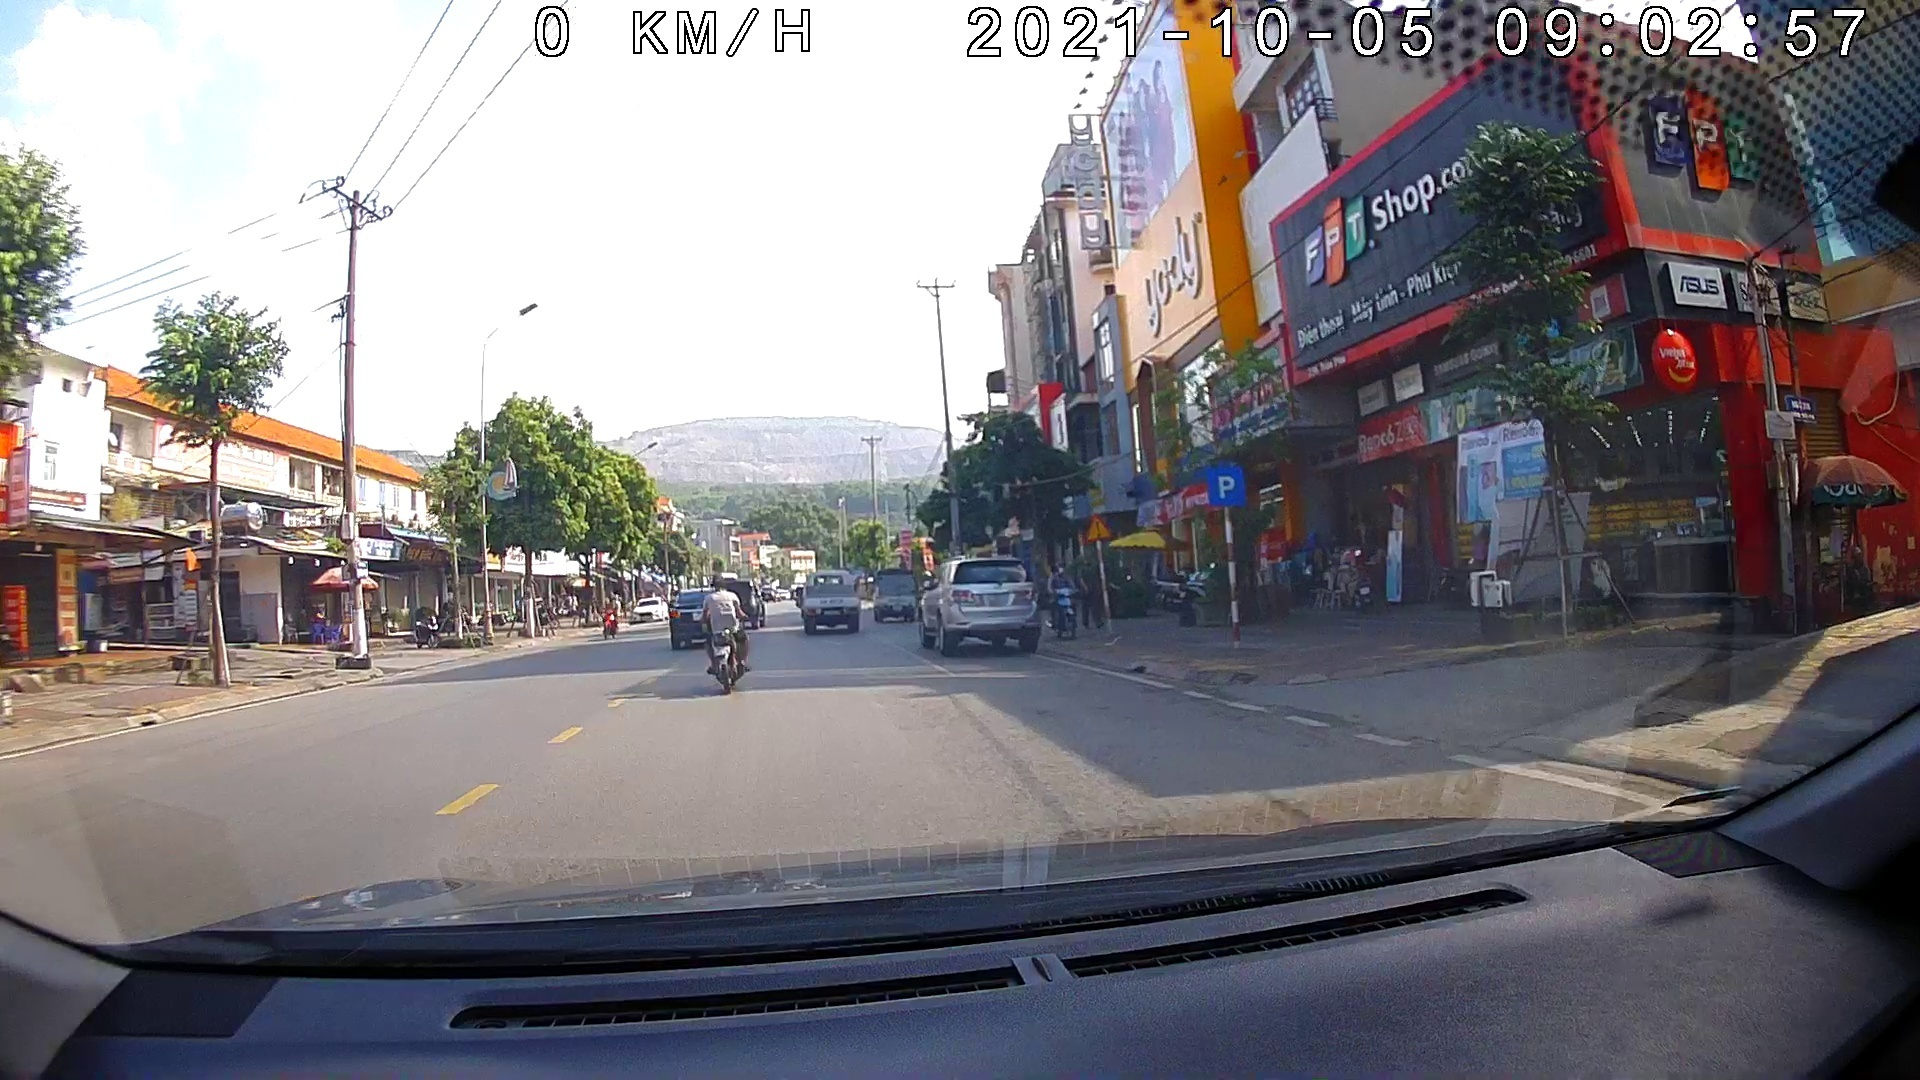Bien khac: (1203, 458, 1246, 509), (1083, 513, 1112, 542)
